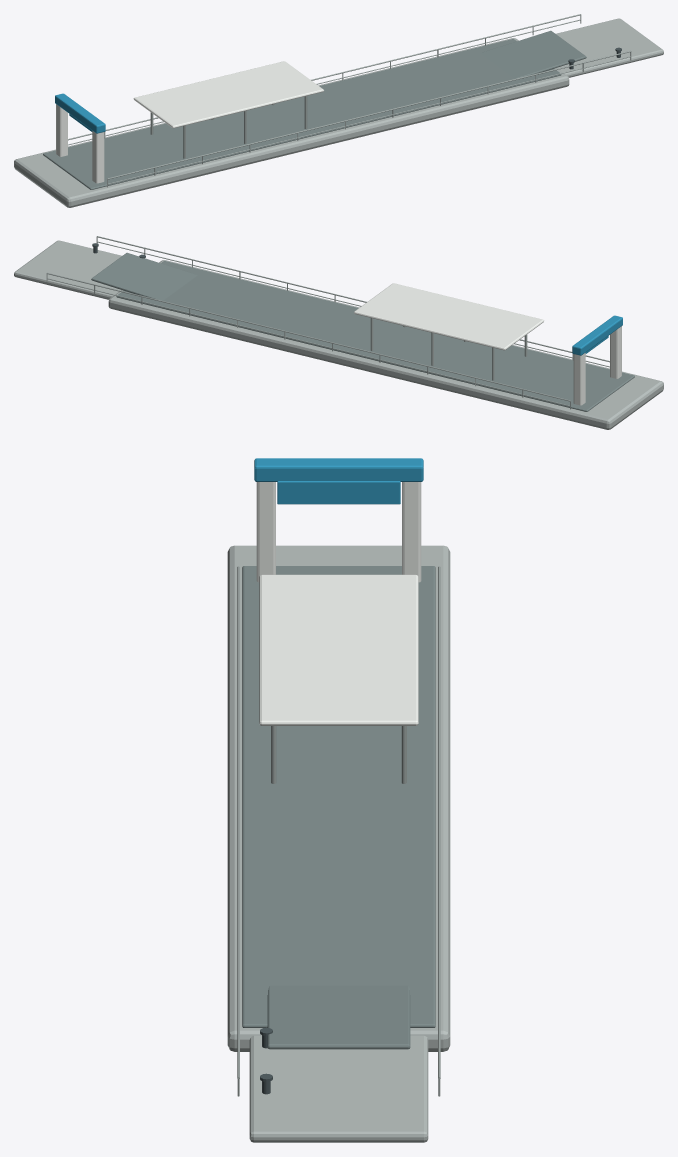
Rendered from ferry-qigan-pier-lod1.glb.
3 views of the same model, one above another, from view 1: azimuth 30°, elevation 25°; view 2: azimuth 150°, elevation 25°; view 3: azimuth 270°, elevation 25° (orthographic). The views are drawn at different scales.
Parts seen in each view (by area): view 1: Qigan deck paving, Qigan shore platform, Qigan waiting canopy roof, Qigan floating pontoon, Qigan boarding ramp, Qigan riverside rail, Qigan riverside rail.001, Qigan entrance lintel, Qigan riverside rail.002, Qigan entrance column, Qigan entrance column.001, Qigan riverside rail.003; view 2: Qigan deck paving, Qigan shore platform, Qigan waiting canopy roof, Qigan floating pontoon, Qigan boarding ramp, Qigan riverside rail.002, Qigan riverside rail.003, Qigan entrance lintel, Qigan riverside rail, Qigan entrance column.001, Qigan entrance column, Qigan riverside rail.001; view 3: Qigan deck paving, Qigan waiting canopy roof, Qigan shore platform, Qigan floating pontoon, Qigan boarding ramp, Qigan entrance lintel, Qigan terminal sign panel, Qigan entrance column, Qigan entrance column.001, Qigan riverside rail, Qigan riverside rail.002.
Part boxes in pixels (left/top/right/bottom): Qigan deck paving: left=43, top=39, right=561, bottom=189; Qigan shore platform: left=14, top=38, right=569, bottom=207; Qigan waiting canopy roof: left=133, top=61, right=323, bottom=128; Qigan floating pontoon: left=556, top=18, right=663, bottom=77; Qigan boarding ramp: left=480, top=30, right=586, bottom=78; Qigan riverside rail: left=107, top=50, right=631, bottom=179; Qigan riverside rail.001: left=108, top=56, right=630, bottom=184; Qigan entrance lintel: left=55, top=93, right=105, bottom=133; Qigan riverside rail.002: left=68, top=14, right=580, bottom=140; Qigan entrance column: left=92, top=131, right=104, bottom=183; Qigan entrance column.001: left=56, top=104, right=67, bottom=156; Qigan riverside rail.003: left=68, top=19, right=580, bottom=145; Qigan deck paving: left=116, top=261, right=634, bottom=411; Qigan shore platform: left=108, top=260, right=663, bottom=429; Qigan waiting canopy roof: left=354, top=283, right=544, bottom=350; Qigan floating pontoon: left=14, top=240, right=121, bottom=299; Qigan boarding ramp: left=91, top=252, right=197, bottom=300; Qigan riverside rail.002: left=46, top=272, right=570, bottom=401; Qigan riverside rail.003: left=47, top=278, right=569, bottom=406; Qigan entrance lintel: left=572, top=315, right=622, bottom=355; Qigan riverside rail: left=97, top=236, right=609, bottom=362; Qigan entrance column.001: left=573, top=353, right=585, bottom=405; Qigan entrance column: left=610, top=326, right=621, bottom=378; Qigan riverside rail.001: left=97, top=241, right=609, bottom=367; Qigan deck paving: left=242, top=566, right=435, bottom=1027; Qigan waiting canopy roof: left=259, top=574, right=418, bottom=725; Qigan shore platform: left=227, top=545, right=450, bottom=1051; Qigan floating pontoon: left=249, top=1035, right=428, bottom=1142; Qigan boarding ramp: left=267, top=985, right=410, bottom=1049; Qigan entrance lintel: left=254, top=458, right=423, bottom=481; Qigan terminal sign panel: left=277, top=481, right=400, bottom=504; Qigan entrance column: left=256, top=482, right=275, bottom=582; Qigan entrance column.001: left=402, top=482, right=421, bottom=582; Qigan riverside rail: left=237, top=566, right=239, bottom=1078; Qigan riverside rail.002: left=438, top=566, right=440, bottom=1078.
Size of the model in its own units: 57.5 by 6.42 by 9.2.
